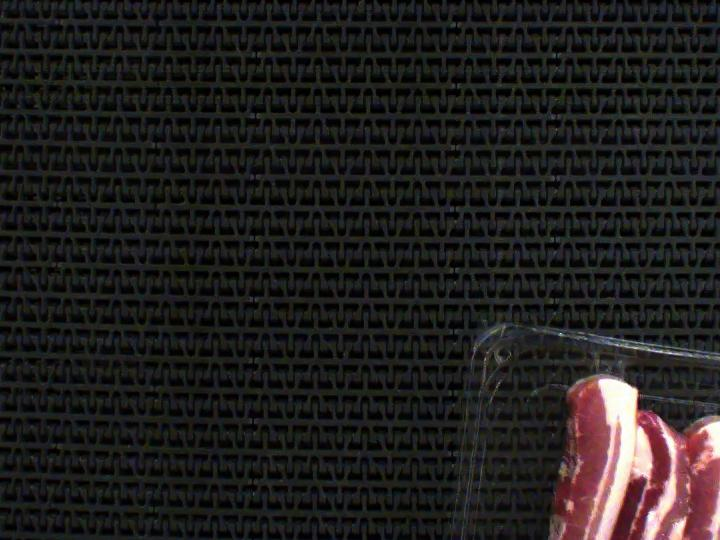packaging-error: (589, 344, 629, 378)
